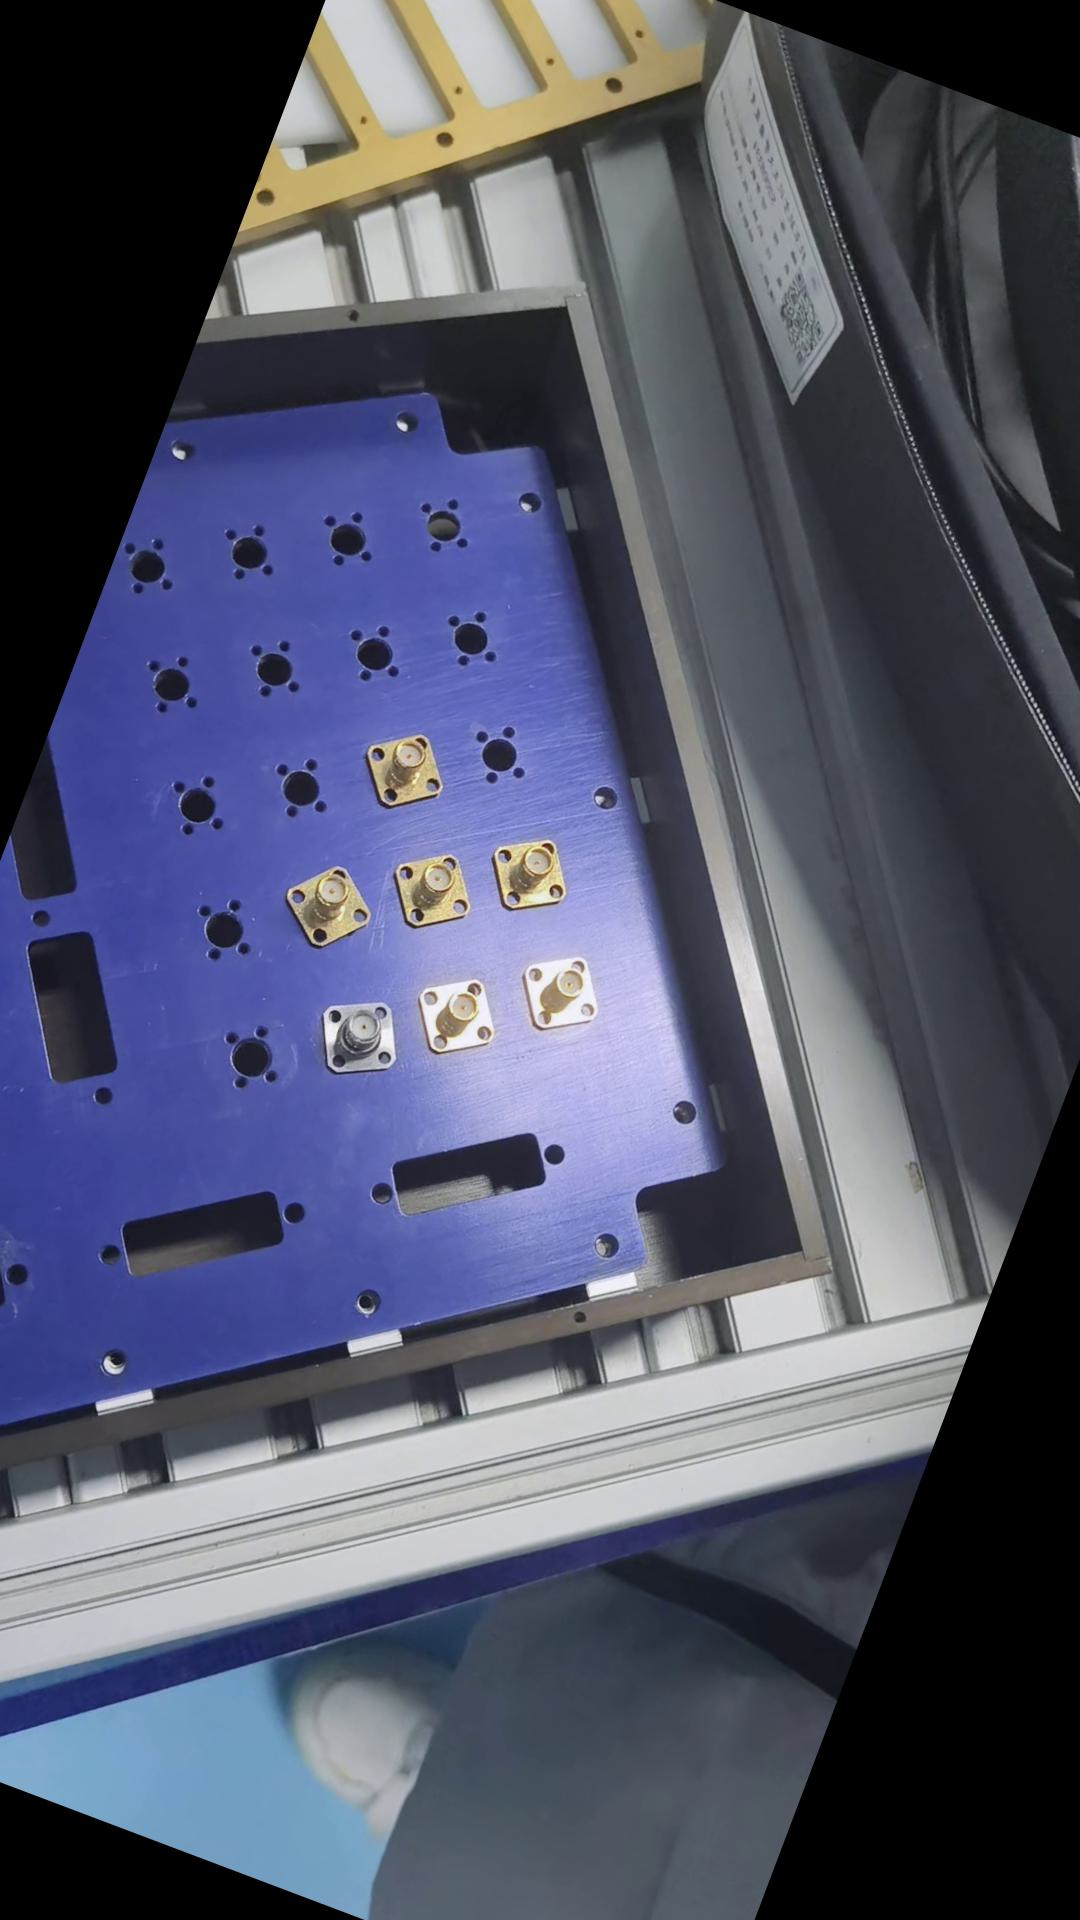SMA: (301, 978, 413, 1096), (266, 848, 378, 957), (375, 829, 481, 942), (397, 956, 502, 1067), (347, 717, 456, 823), (473, 818, 578, 924), (508, 938, 611, 1046)
